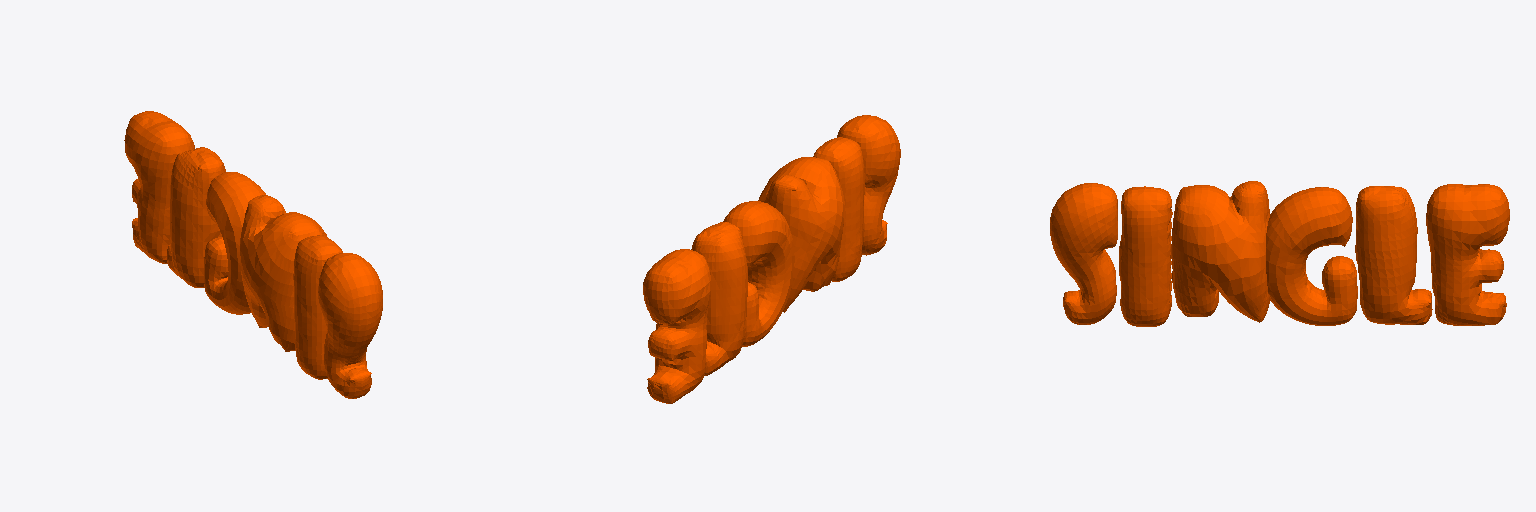
The model's file is 05_single.obj.
The picture shows the model from 3 angles: view 1: azimuth 30°, elevation 25°; view 2: azimuth 150°, elevation 25°; view 3: azimuth 270°, elevation 25°; orthographic projection.
Parts seen in each view (by area): view 1: _single:single; view 2: _single:single; view 3: _single:single.
Part boxes in pixels (x1,y1,x2,y2): _single:single: (124,111,382,398); _single:single: (643,115,900,403); _single:single: (1050,181,1509,326).
Size of the model in its own units: 0.1898 by 0.333 by 0.9859.